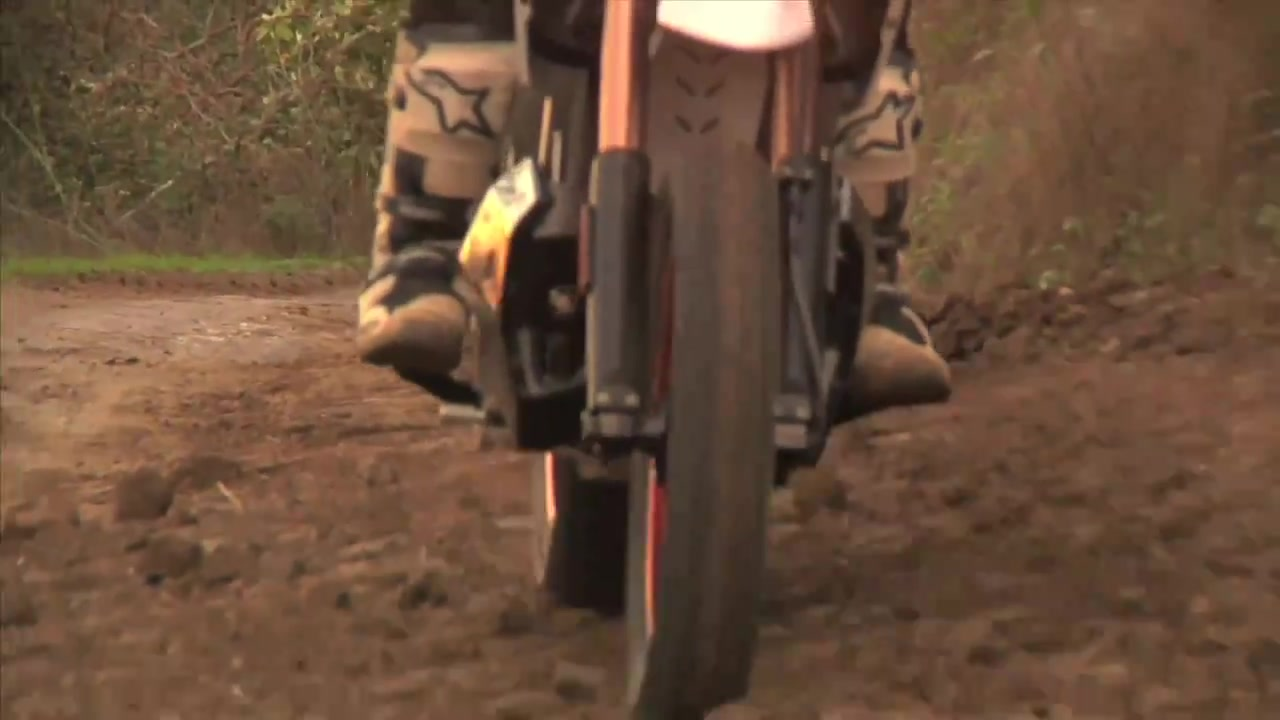motorbike: (458, 4, 870, 718)
